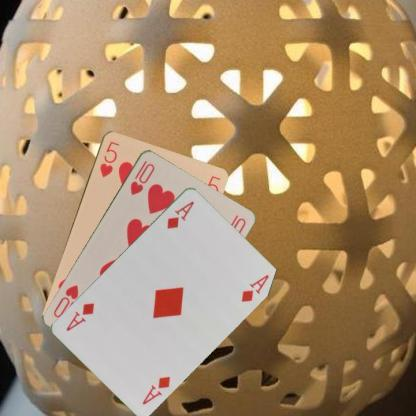10h: (127, 160, 156, 196)
5h: (97, 138, 121, 179)
Ad: (139, 373, 172, 406), (164, 198, 195, 230)
